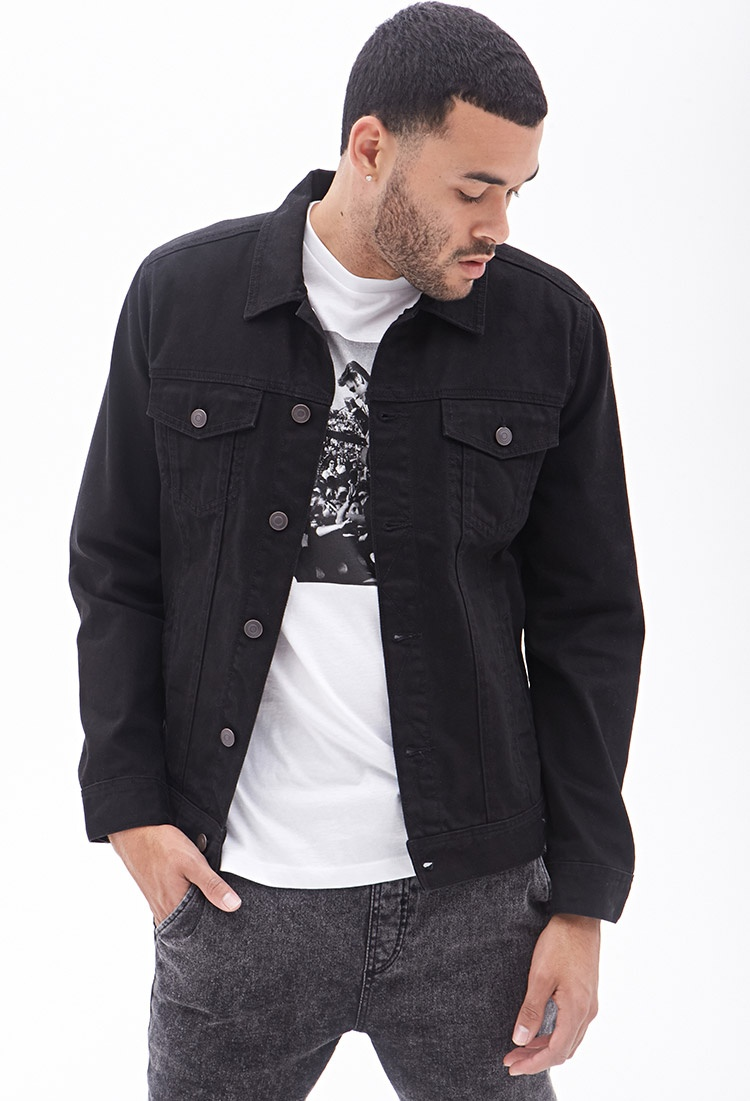S_shirt: (66, 160, 645, 930)
